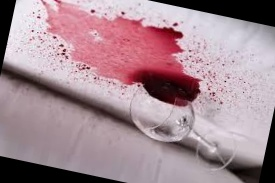wine: (40, 0, 213, 96)
